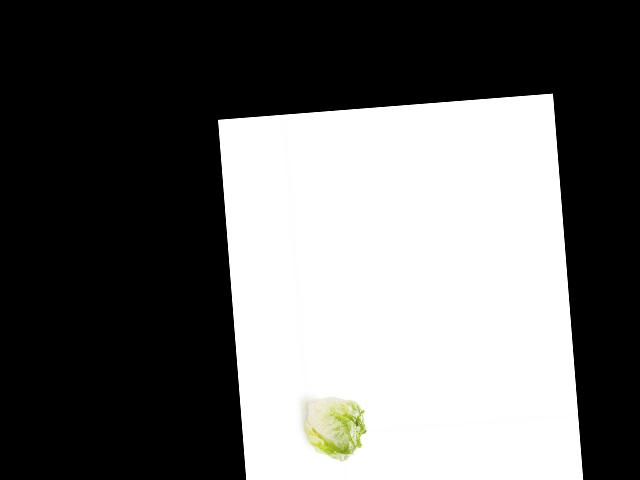lettuce: (303, 389, 371, 467)
